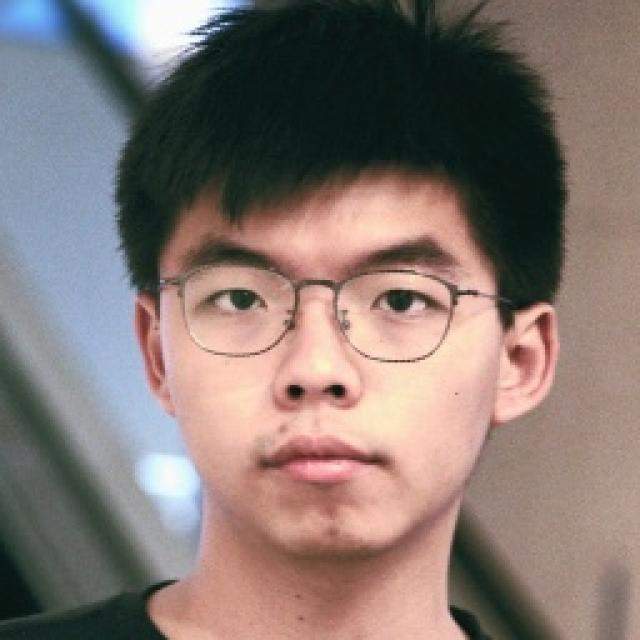glasses: (143, 260, 524, 366)
